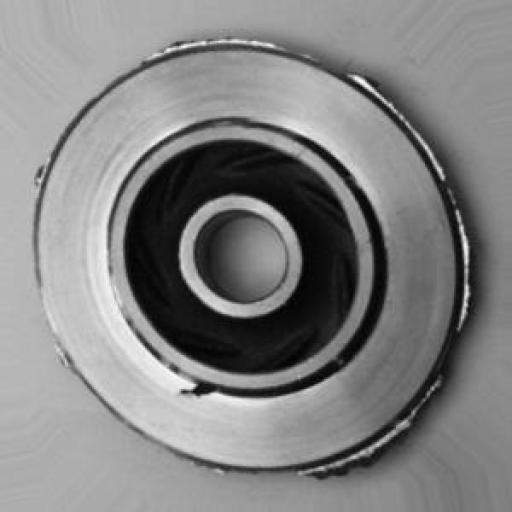defect: (27, 24, 492, 492)
